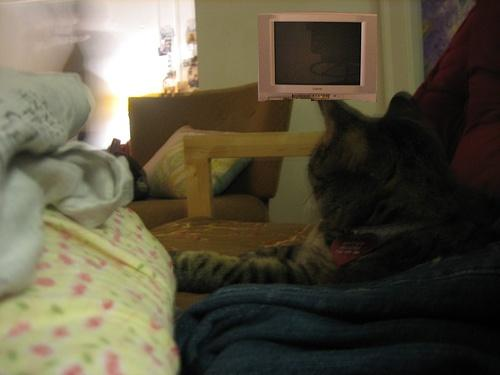tampered: (259, 12, 377, 102)
